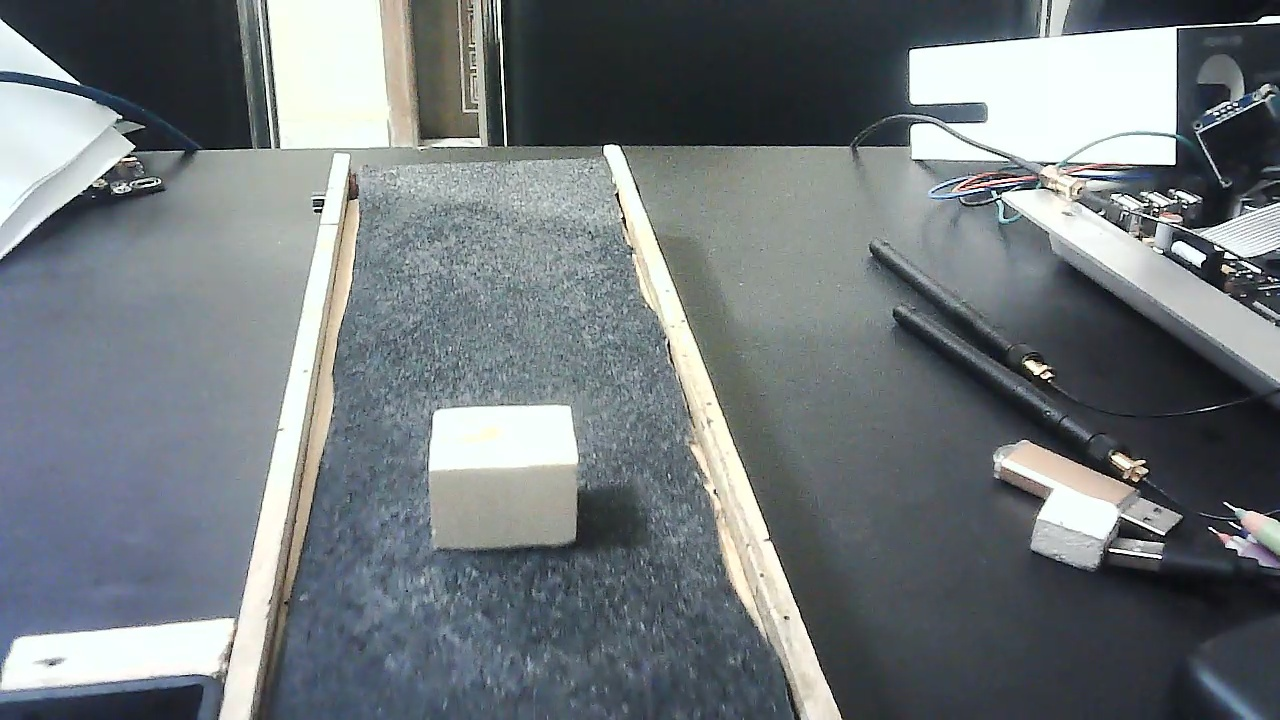Medium: (429, 402, 577, 550)
